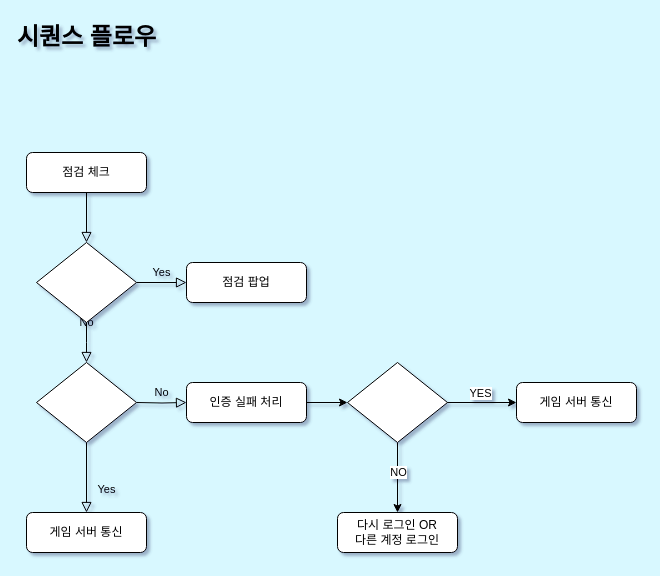
Image size: 660x576. Some labels were removed from this diagram. Here are the shapes that lost their labels. From the top down, the centre of each, then its label:
At pixel 86 282: "점검 기간?".
At pixel 86 402: "인증 요청".
At pixel 397 402: "게스트?".
